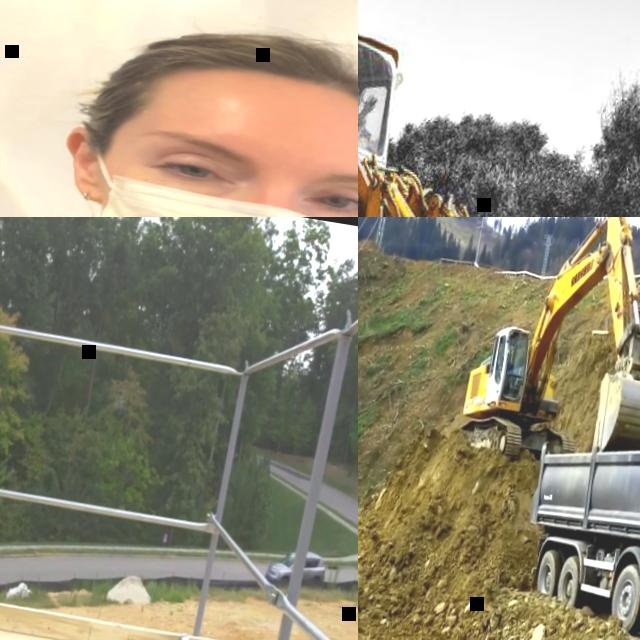Mask: (81, 128, 358, 217)
NO-Hardhat: (121, 3, 358, 147)
Person: (0, 0, 358, 217), (495, 352, 513, 390)
machinery: (358, 0, 640, 217), (455, 217, 640, 482), (509, 383, 640, 640)
vehicle: (266, 544, 330, 589)
